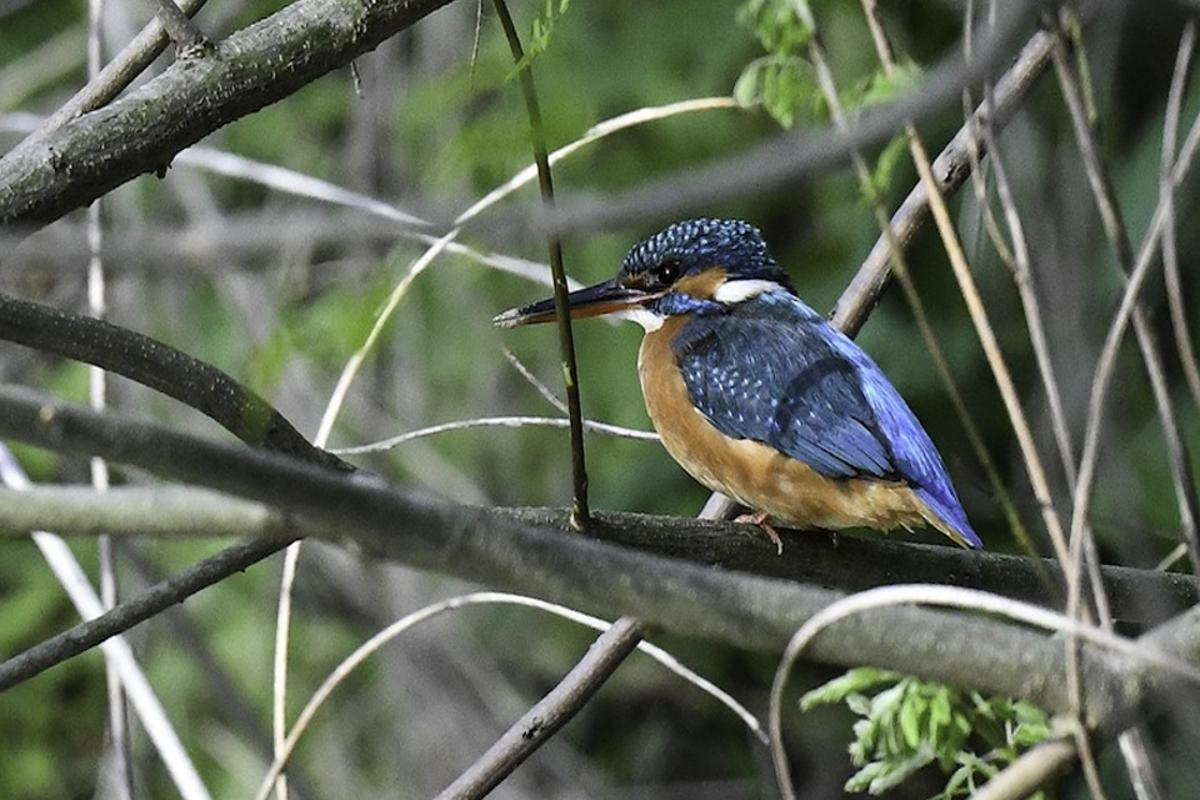kingfisher: (523, 219, 973, 539)
